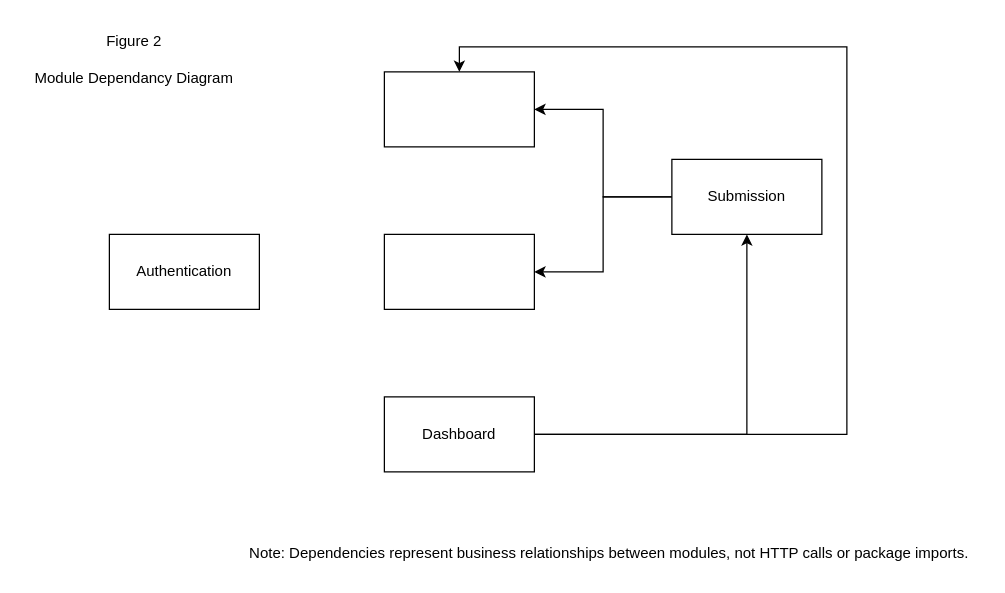
The diagram is 1005 pixels wide and 593 high, and some of its shapes have lost their labels. The centre of each missing label's shape, as x and y in pixels:
"Problem" goes at point (458, 271).
"User" goes at point (458, 109).
